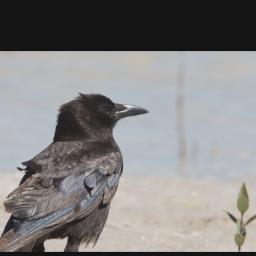Crow: (0, 92, 151, 252)
